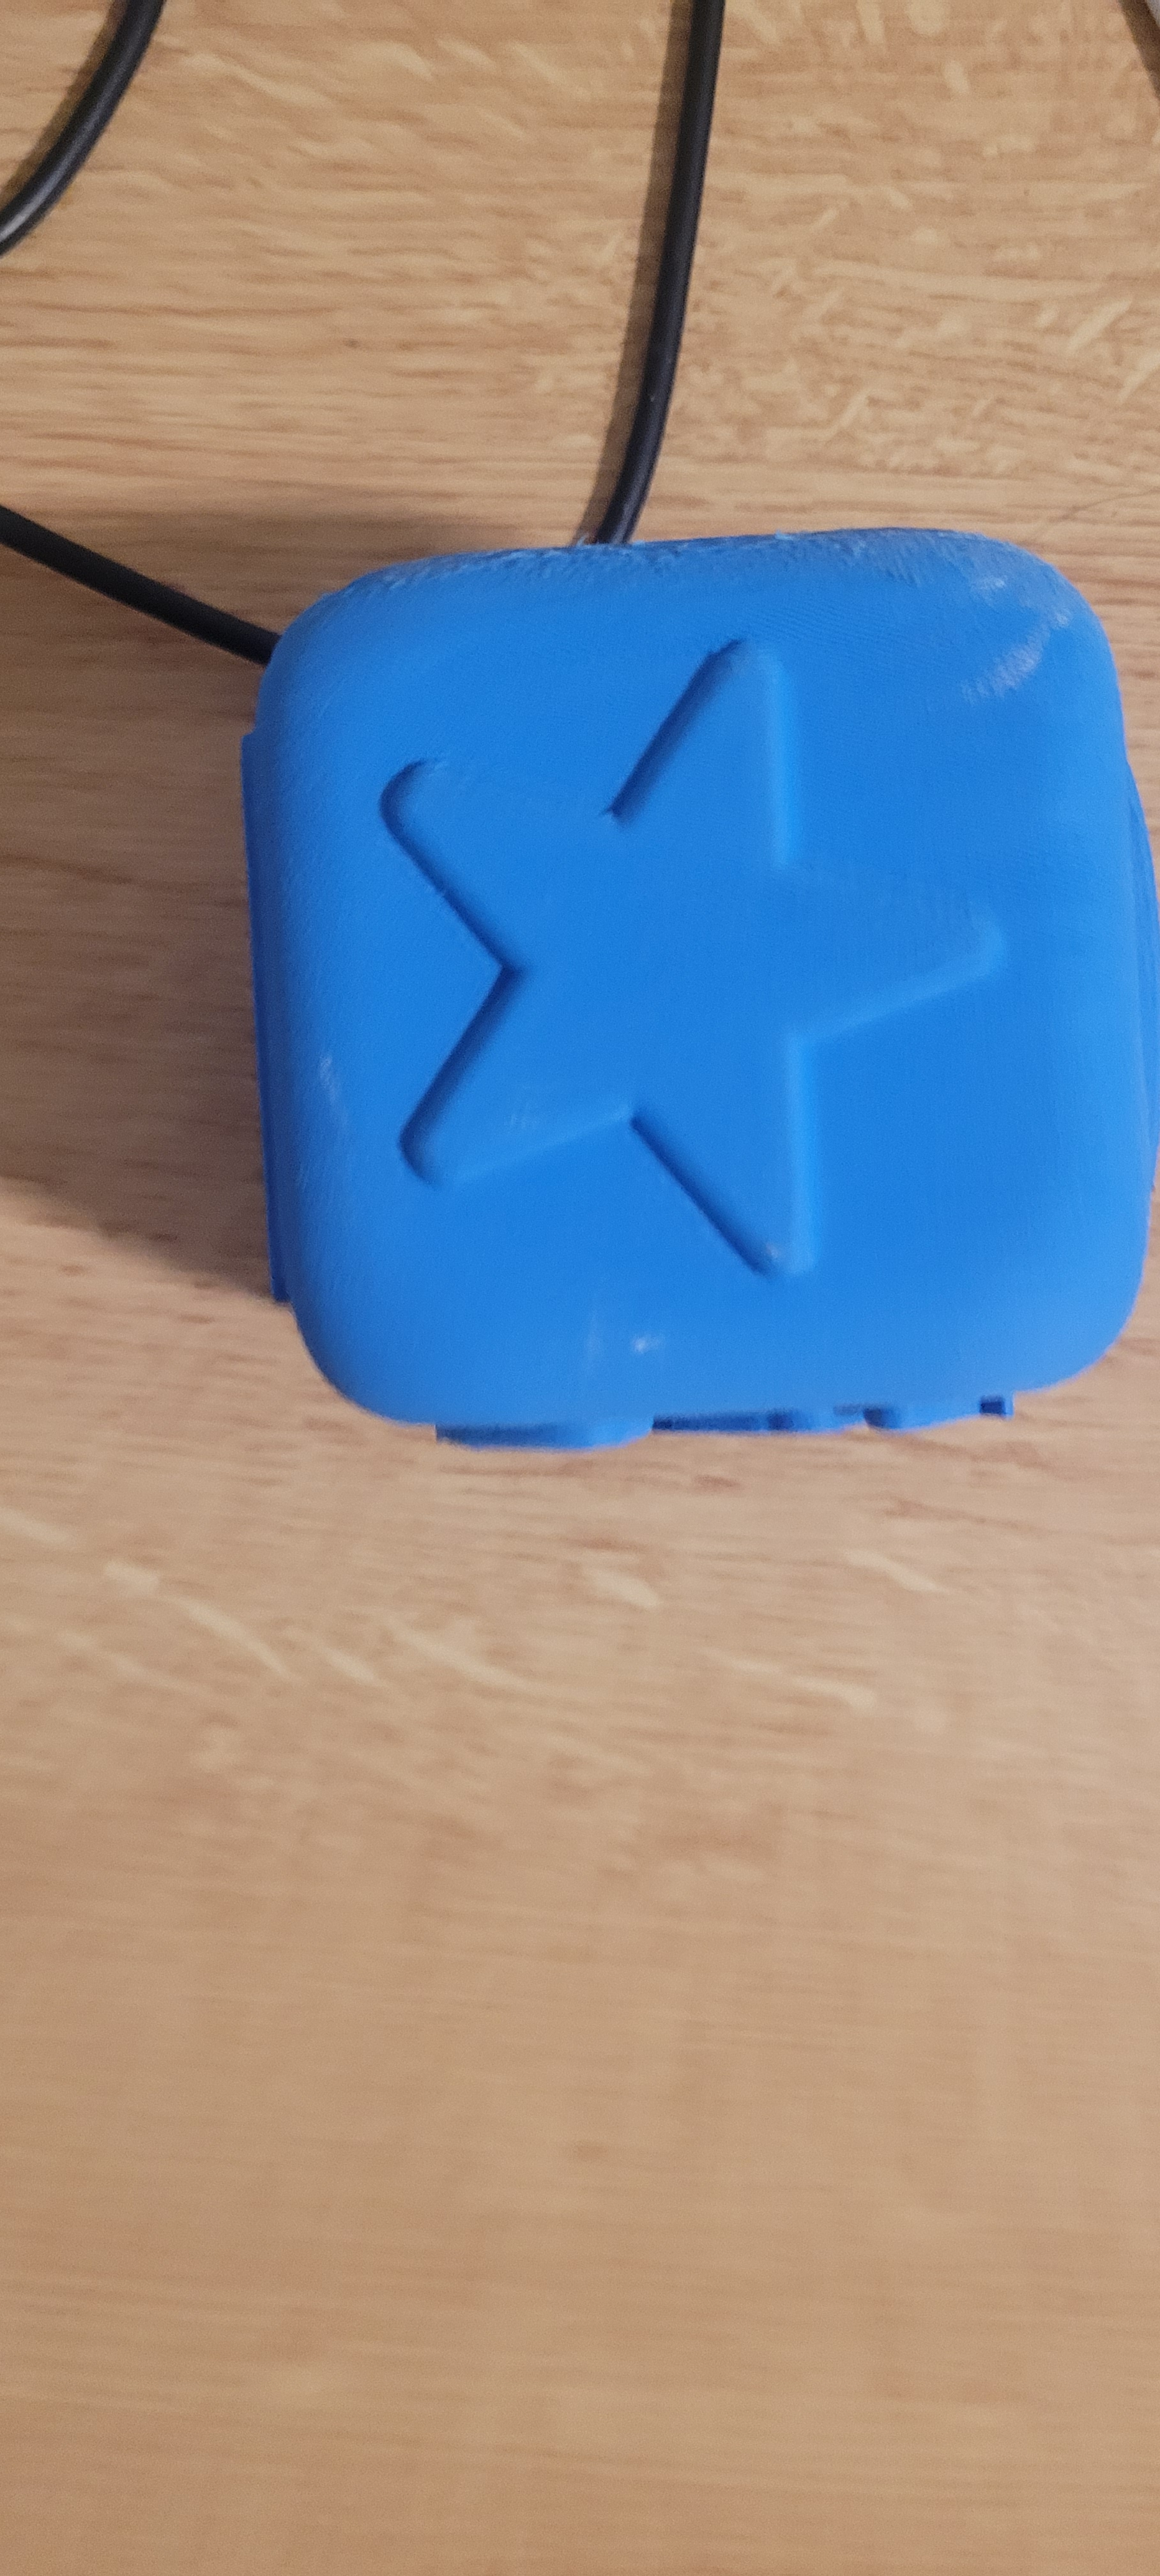Star: (357, 613, 1019, 1288)
